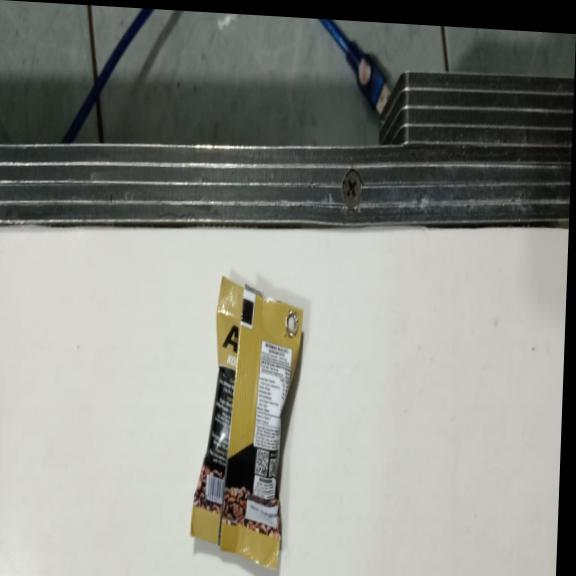Plastik: (188, 273, 305, 573)
